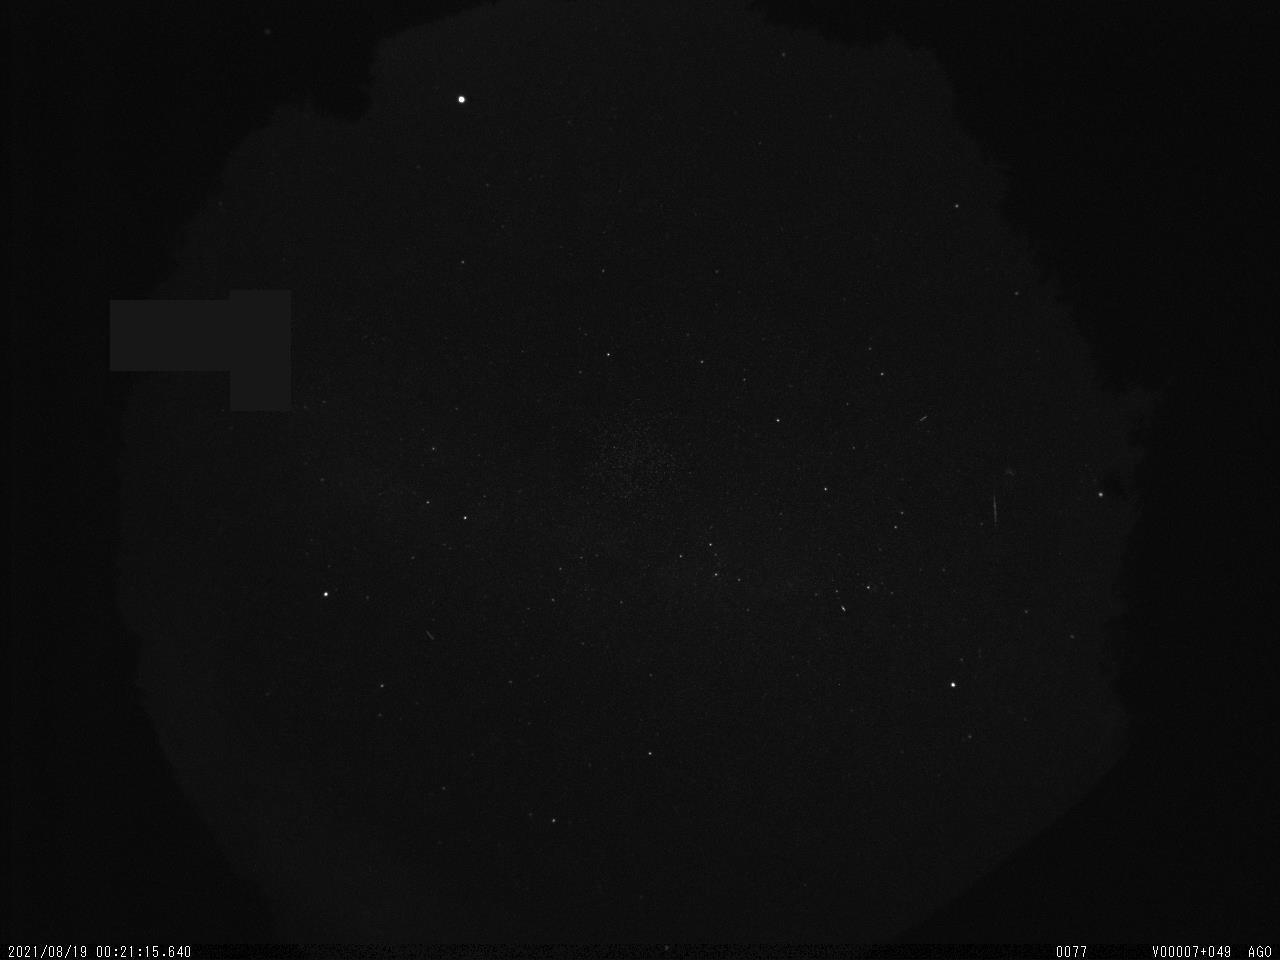meteor: (971, 479, 1022, 539)
